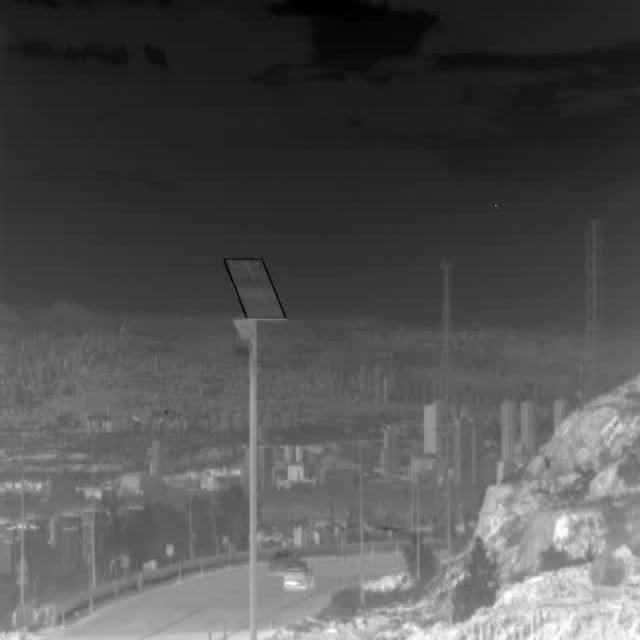Car: (283, 558, 314, 590), (268, 549, 296, 574)
